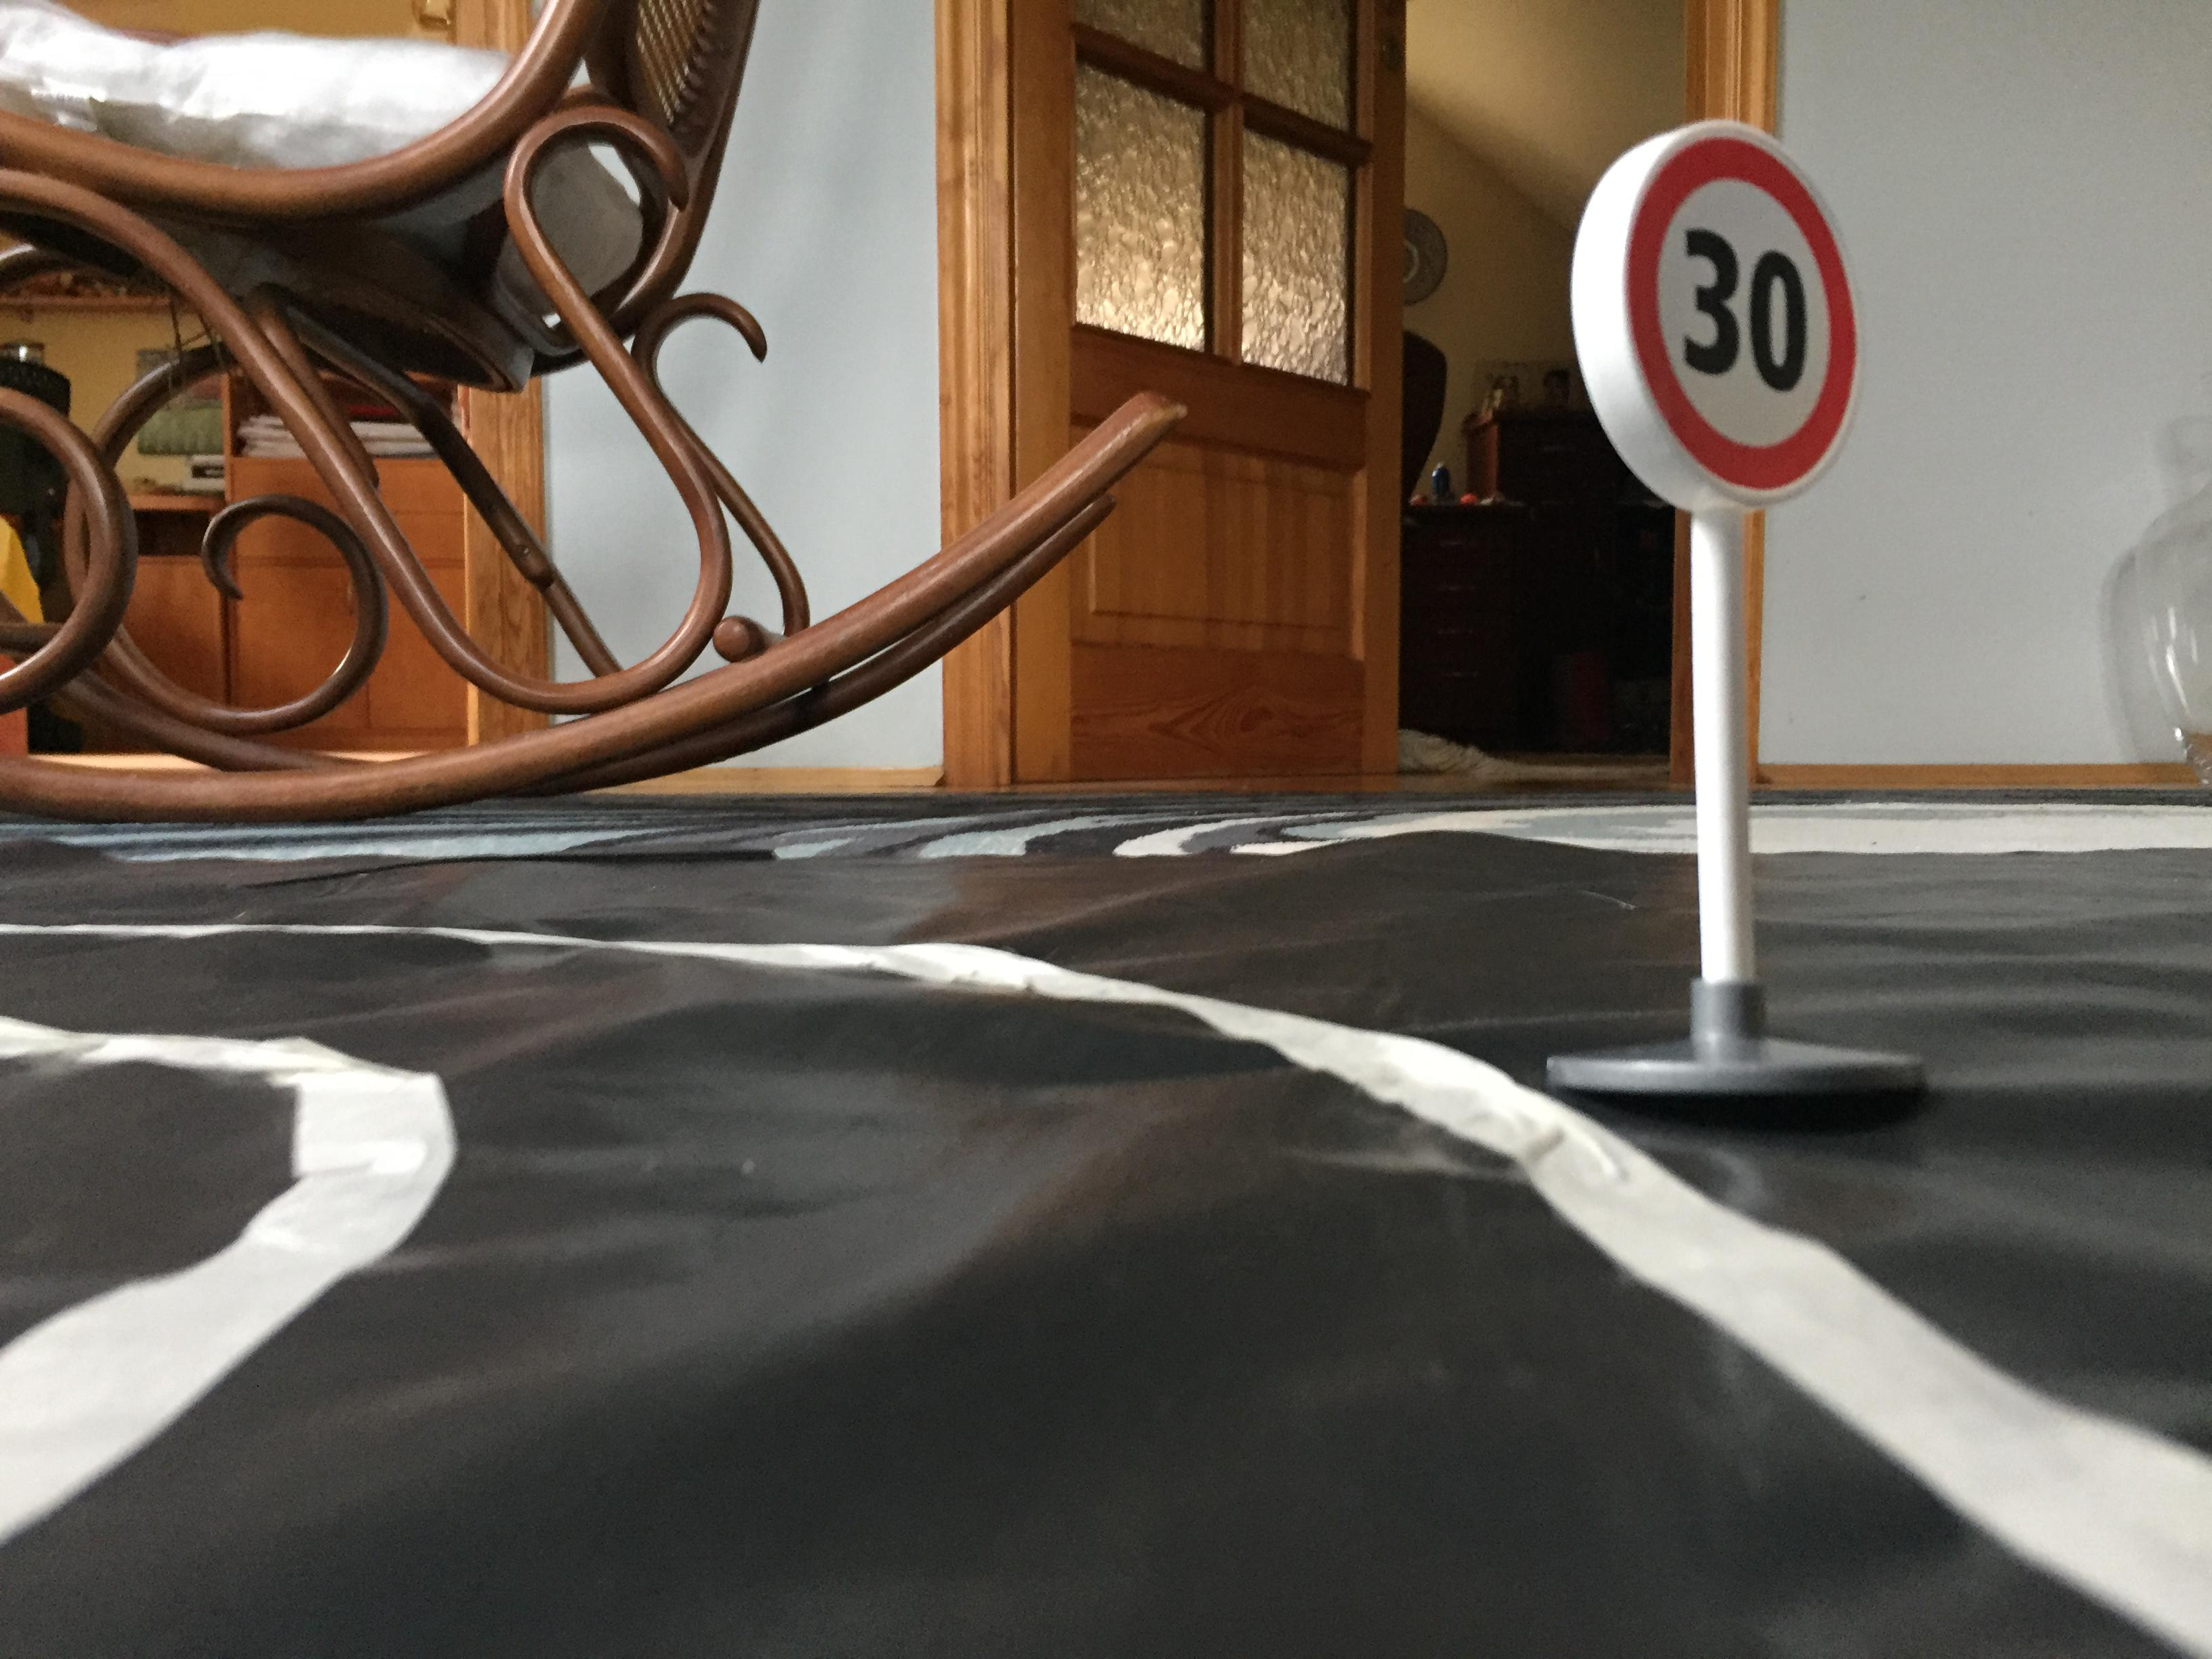speed: (1564, 112, 1874, 528)
